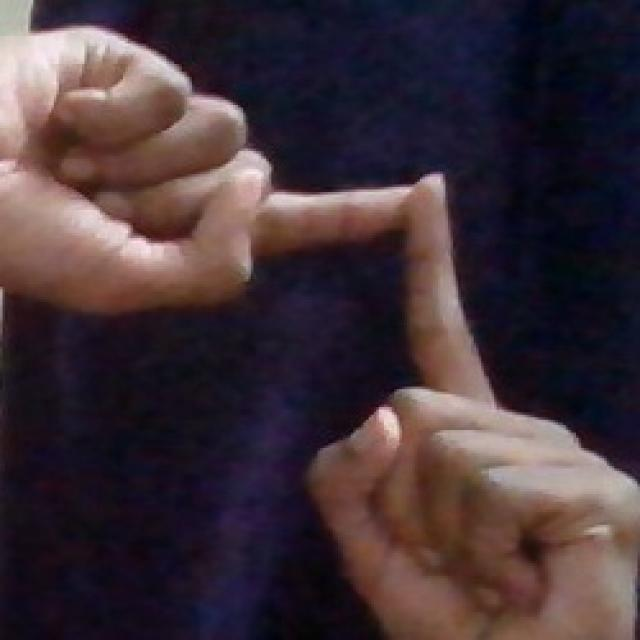Alphabet-E: (0, 26, 411, 315)
